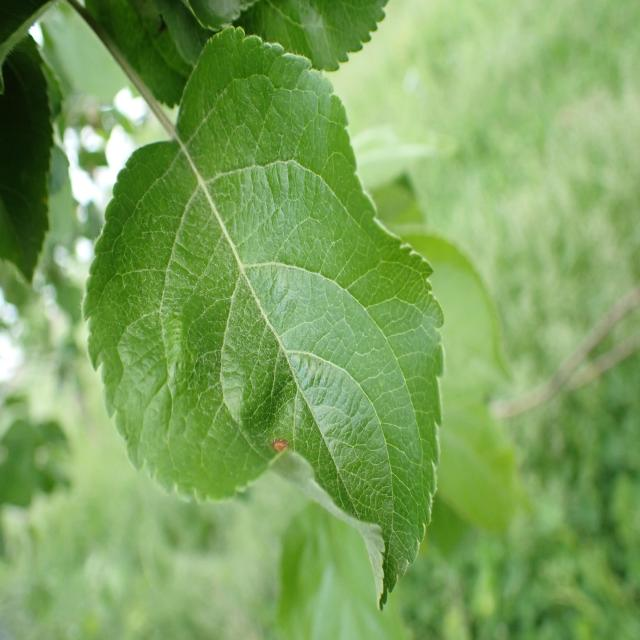Black Rot: (252, 417, 300, 484)
